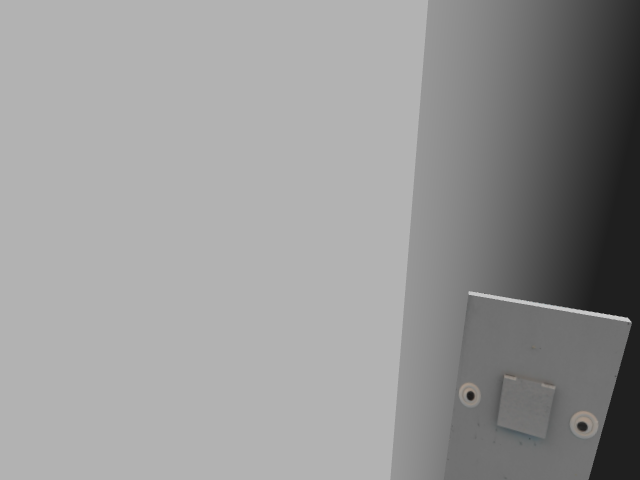facade: (456, 373, 599, 445)
